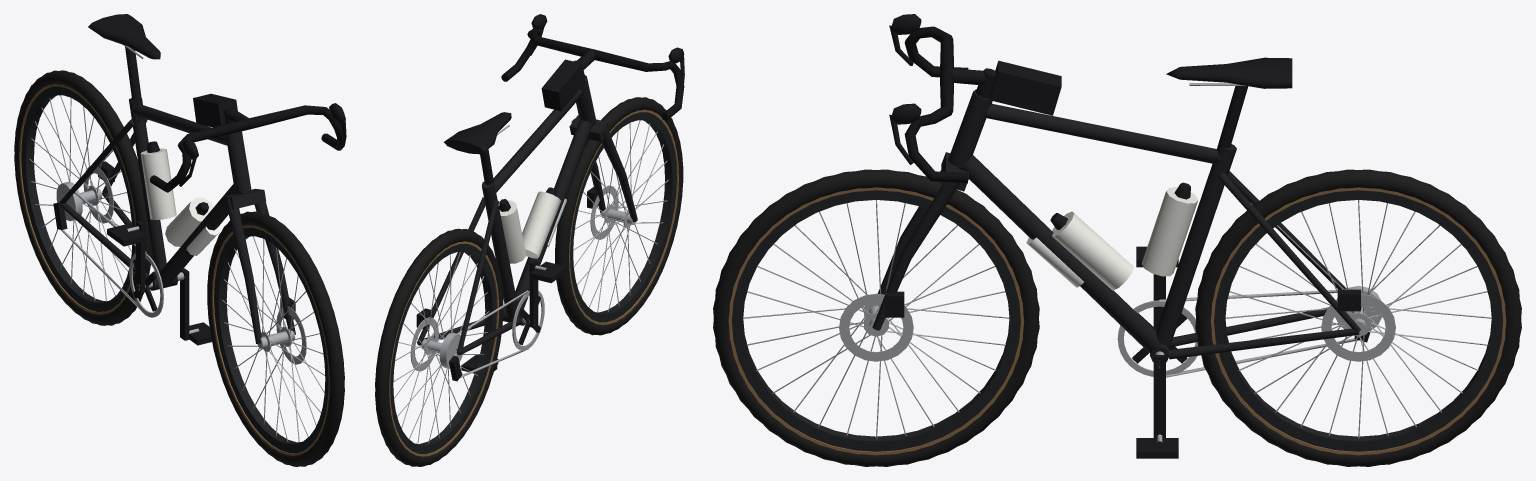
File: bike-gravel.glb
3 renders of one model, left to right at view 1: azimuth 30°, elevation 25°; view 2: azimuth 150°, elevation 25°; view 3: azimuth 270°, elevation 25°, orthographic. The views are drawn at different scales.
Visible parts, largest first — view 1: bike, wheel_front, wheel_rear, handlebar, saddle, crank, pedal_r, pedal_l; view 2: bike, wheel_rear, wheel_front, handlebar, saddle, crank, pedal_r; view 3: bike, wheel_rear, wheel_front, handlebar, saddle, crank, pedal_l.
Boxes of the visible parts, box(x1,y1,x2,y2) form: bike: box(53, 93, 295, 343); wheel_front: box(207, 211, 344, 466); wheel_rear: box(14, 70, 151, 325); handlebar: box(149, 103, 346, 192); saddle: box(88, 14, 160, 122); crank: box(129, 220, 189, 340); pedal_r: box(107, 223, 146, 246); pedal_l: box(189, 322, 211, 345); bike: box(416, 49, 637, 381); wheel_rear: box(375, 228, 503, 466); wheel_front: box(555, 97, 683, 335); handlebar: box(501, 14, 684, 120); saddle: box(444, 112, 511, 184); crank: box(494, 260, 544, 371); pedal_r: box(530, 261, 566, 283); bike: box(872, 60, 1370, 377); wheel_rear: box(1195, 169, 1521, 466); wheel_front: box(713, 169, 1039, 466); handlebar: box(889, 14, 968, 183); saddle: box(1166, 57, 1292, 171); crank: box(1117, 274, 1197, 437); pedal_l: box(1136, 434, 1178, 458).
Size of what is drawn, in the model's own units: 0.5536 by 0.9597 by 1.73.
